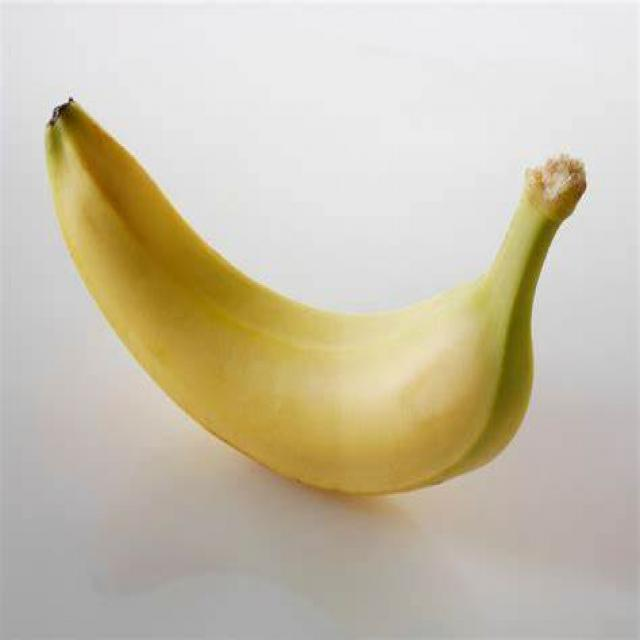Banana: (42, 103, 595, 506)
